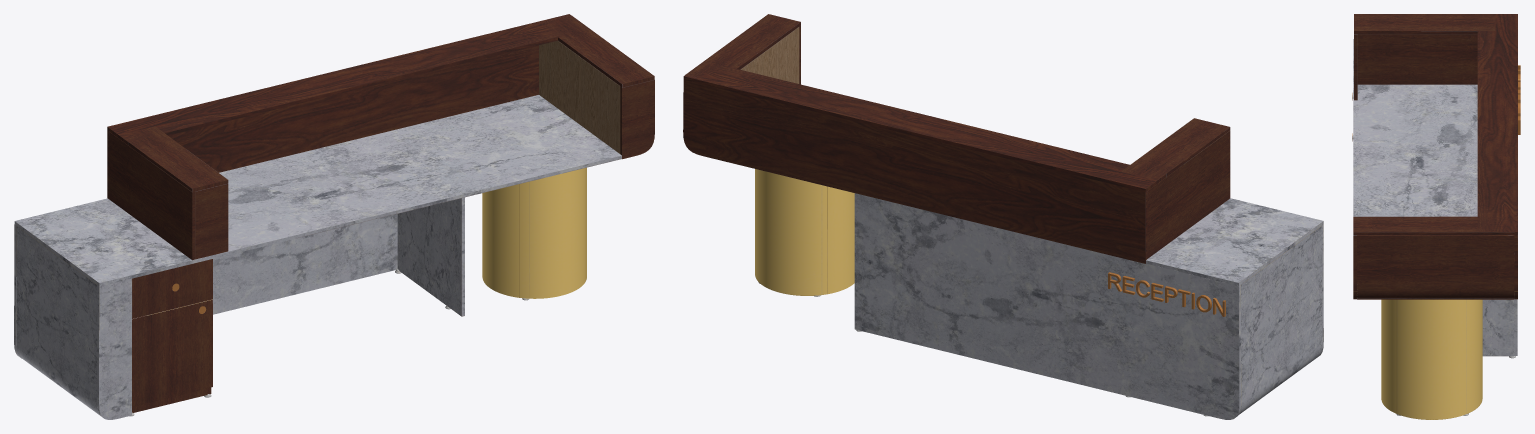
Rendered from dezy3d.glb.
The picture shows the model from 3 angles, left to right: view 1: azimuth 30°, elevation 25°; view 2: azimuth 150°, elevation 25°; view 3: azimuth 270°, elevation 25°; orthographic projection. The views are drawn at different scales.
Visible parts, largest first — view 1: ASSET_Joined; view 2: ASSET_Joined; view 3: ASSET_Joined.
Boxes of the visible parts, x1=… form: ASSET_Joined: x1=14, y1=14, x2=654, y2=419; ASSET_Joined: x1=683, y1=14, x2=1323, y2=419; ASSET_Joined: x1=1352, y1=14, x2=1520, y2=419.
Size of the model in its own units: 3.07 by 1.13 by 0.8322.
1 material, 1 textured.
